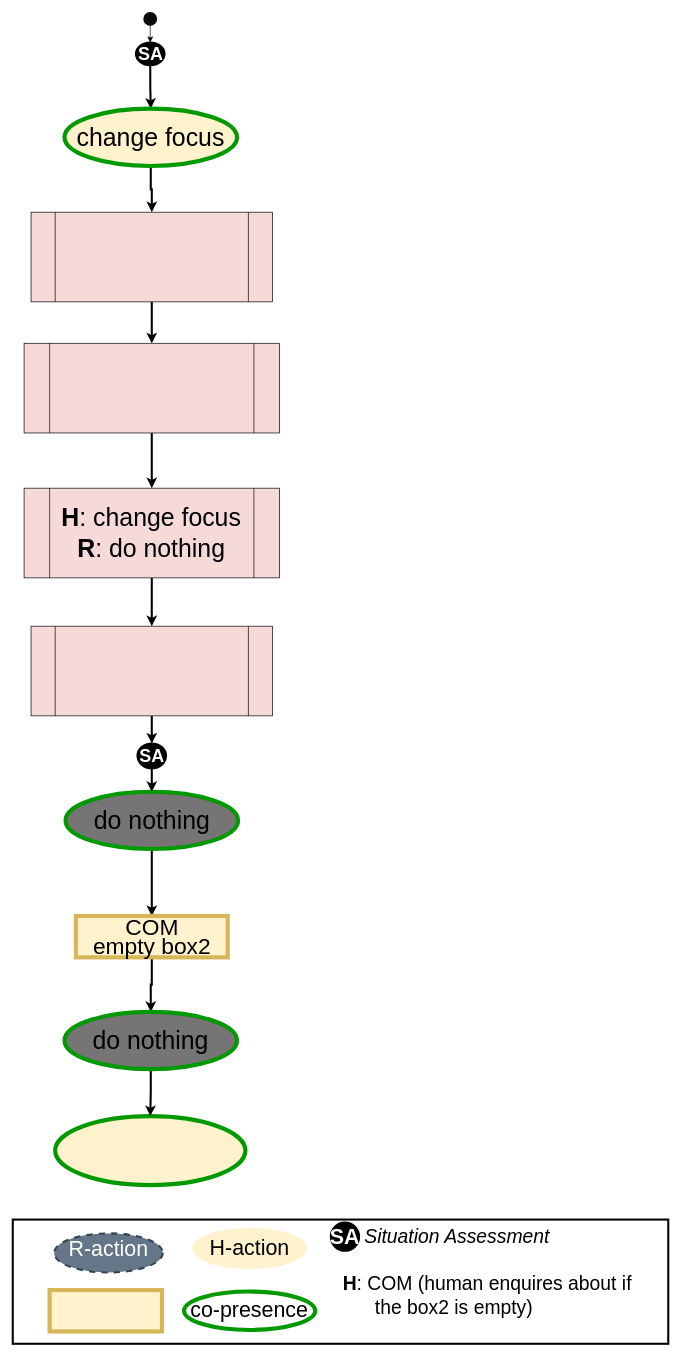
The diagram is 681 pixels wide and 1363 high, and some of its shapes have lost their labels. The centre of each missing label's shape, as x and y in pixels:
Comm. action: point (105, 1310)
H : move to mt R : do nothing: point (151, 670)
H : move to ot R : pick( cr ): point (151, 256)
H : pick( cw ) R : place( cr , box1 ): point (151, 388)
place( cw , box2 ): point (150, 1150)
